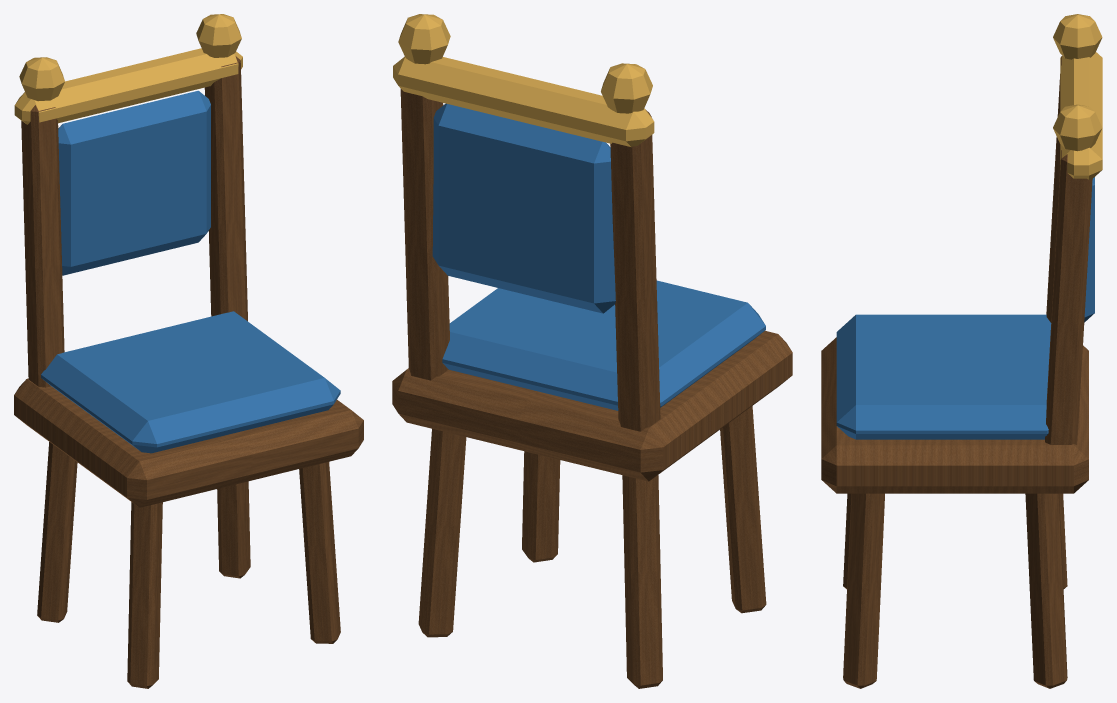
The model's file is tea-chair.glb.
3 views of the same model, side by side, from view 1: azimuth 30°, elevation 25°; view 2: azimuth 150°, elevation 25°; view 3: azimuth 270°, elevation 25° (orthographic). The views are drawn at different scales.
Parts seen in each view (by area): view 1: Sapphire seat cushion, Sapphire padded back, Walnut seat frame, Carved back upright, Carved back upright.001, Gilded back rail, Chair leg, Chair leg.002, Chair leg.001, Chair leg.003, Chair brass finial, Chair brass finial.001; view 2: Sapphire padded back, Walnut seat frame, Sapphire seat cushion, Carved back upright, Gilded back rail, Carved back upright.001, Chair leg.001, Chair leg.003, Chair leg, Chair leg.002, Chair brass finial, Chair brass finial.001; view 3: Sapphire seat cushion, Walnut seat frame, Carved back upright.001, Chair leg.003, Chair leg.002, Gilded back rail, Chair brass finial.001, Chair brass finial, Carved back upright, Sapphire padded back, Chair leg, Chair leg.001.
Boxes of the visible parts, <box> form: Sapphire seat cushion: <box>41,311,340,453</box>; Sapphire padded back: <box>58,90,210,275</box>; Walnut seat frame: <box>14,378,363,507</box>; Carved back upright: <box>21,105,64,387</box>; Carved back upright.001: <box>204,56,247,321</box>; Gilded back rail: <box>14,48,242,124</box>; Chair leg: <box>127,502,162,688</box>; Chair leg.002: <box>299,462,340,643</box>; Chair leg.001: <box>37,442,77,622</box>; Chair leg.003: <box>217,481,250,578</box>; Chair brass finial: <box>19,57,64,101</box>; Chair brass finial.001: <box>196,14,241,57</box>; Sapphire padded back: <box>432,103,615,313</box>; Walnut seat frame: <box>392,330,792,481</box>; Sapphire seat cushion: <box>442,280,765,410</box>; Carved back upright: <box>610,110,660,431</box>; Gilded back rail: <box>393,56,654,147</box>; Carved back upright.001: <box>400,89,449,380</box>; Chair leg.001: <box>622,475,662,688</box>; Chair leg.003: <box>418,429,466,637</box>; Chair leg: <box>720,406,766,613</box>; Chair leg.002: <box>522,451,560,562</box>; Chair brass finial: <box>601,63,652,113</box>; Chair brass finial.001: <box>398,14,450,64</box>; Sapphire seat cushion: <box>836,314,1051,439</box>; Walnut seat frame: <box>821,337,1088,493</box>; Carved back upright.001: <box>1045,150,1092,444</box>; Chair leg.003: <box>1025,493,1067,688</box>; Chair leg.002: <box>843,493,884,688</box>; Gilded back rail: <box>1060,52,1102,179</box>; Chair brass finial.001: <box>1053,104,1102,151</box>; Chair brass finial: <box>1053,14,1102,59</box>; Carved back upright: <box>1046,56,1061,322</box>; Sapphire padded back: <box>1084,177,1094,322</box>; Chair leg: <box>843,493,851,589</box>; Chair leg.001: <box>1059,493,1067,588</box>.
Bounding box in the file's own units: 0.75 × 1.67 × 0.735.
3 materials, 1 textured.
